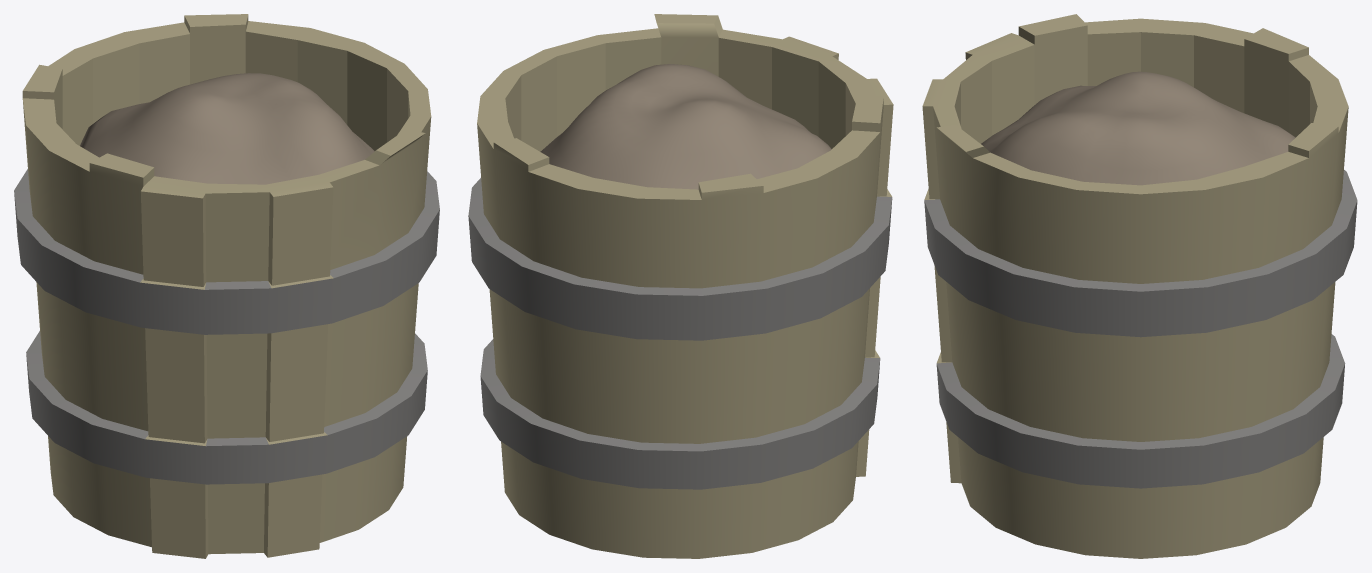
Rendered from poopbucket.fbx.
3 views of the same model, side by side, from view 1: azimuth 30°, elevation 25°; view 2: azimuth 150°, elevation 25°; view 3: azimuth 270°, elevation 25° (orthographic).
Parts seen in each view (by area): view 1: pCylinder9; view 2: pCylinder9; view 3: pCylinder9.
Part boxes in pixels (x1,y1,x2,y2): pCylinder9: [14, 14, 439, 558]; pCylinder9: [468, 14, 893, 558]; pCylinder9: [922, 14, 1357, 558].
Size of the model in its own units: 1.25 by 1.25 by 1.25.
